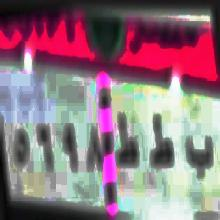5: (10, 124, 32, 171)
6: (38, 120, 54, 174)
8: (85, 128, 103, 180)
9: (63, 120, 79, 176)
Taa: (115, 107, 138, 172), (148, 115, 174, 172)
baa: (185, 123, 215, 189)
